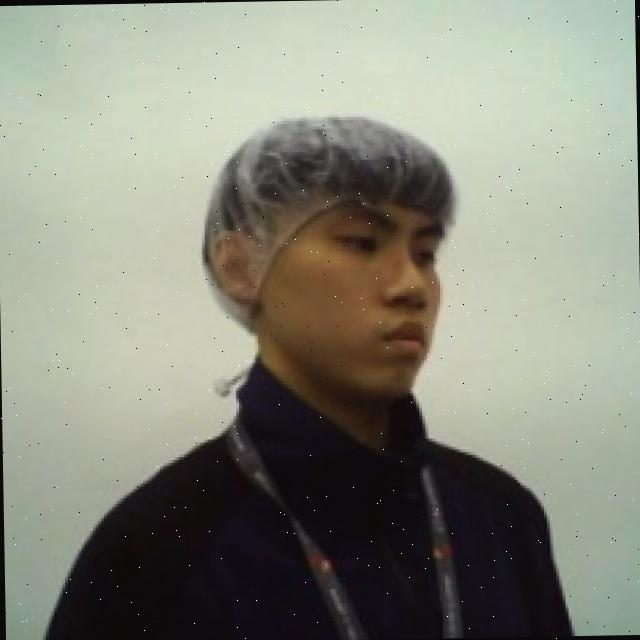gloves: (198, 104, 460, 347)
no_hairnet: (207, 220, 464, 390)
